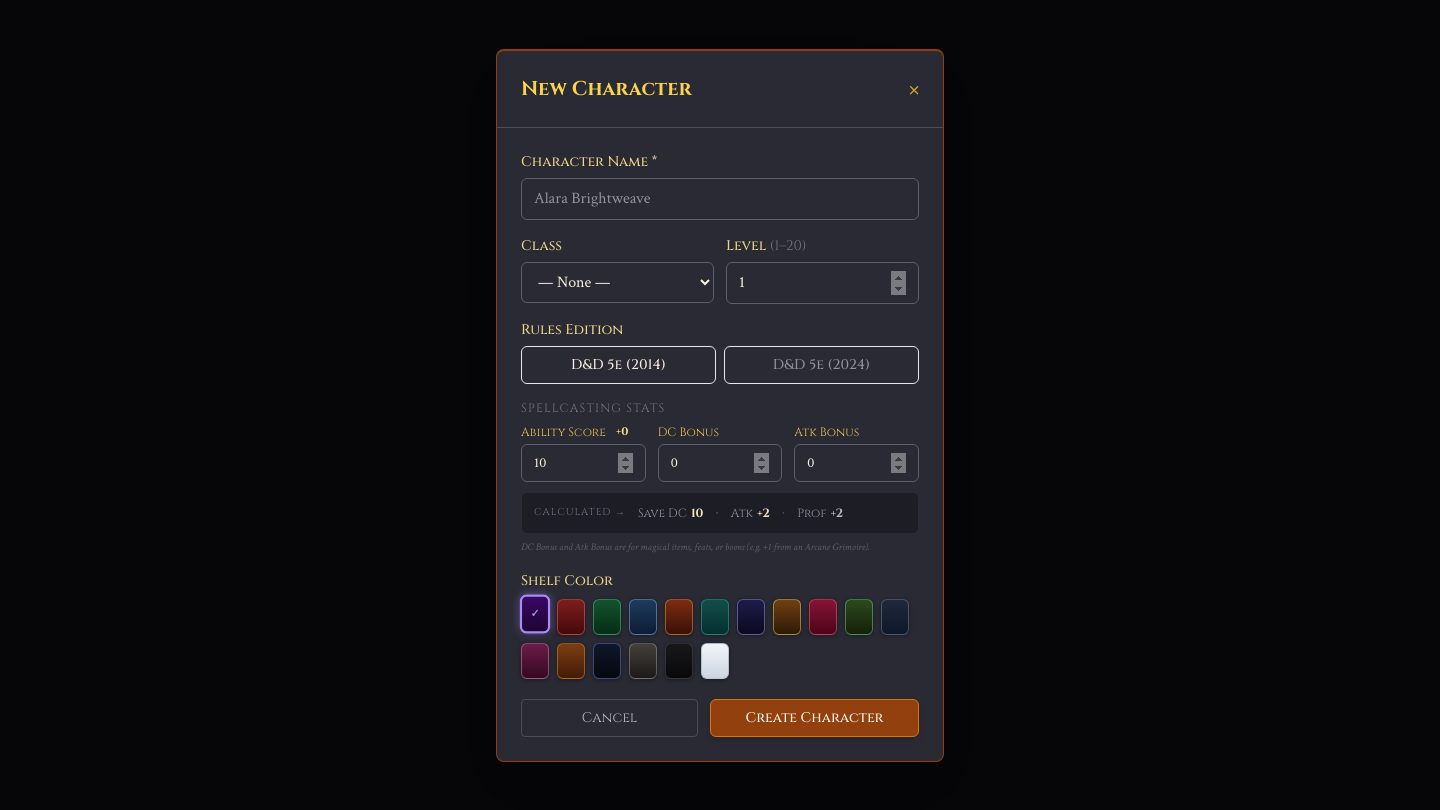
Test case: CreateCharacterModal — validation › shows error when Level is out of range
The image size is (1440, 810).
In the field with placeholder "Alara Brightweave": (720, 198) [521,178,919,220], type "Hero"
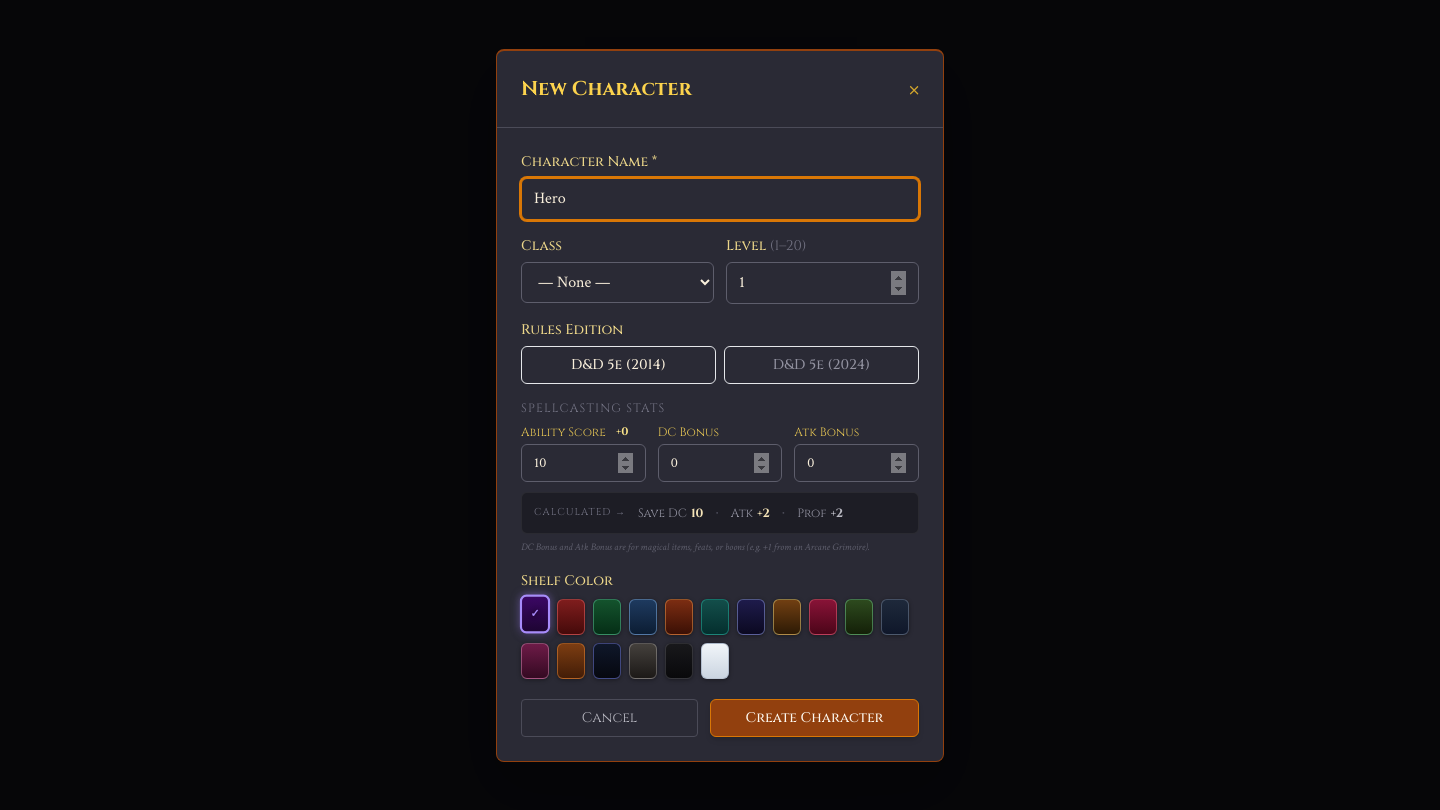
Replace the text in the number field labelled "Level (1–20)" with "99": (822, 282) [726,262,919,304]
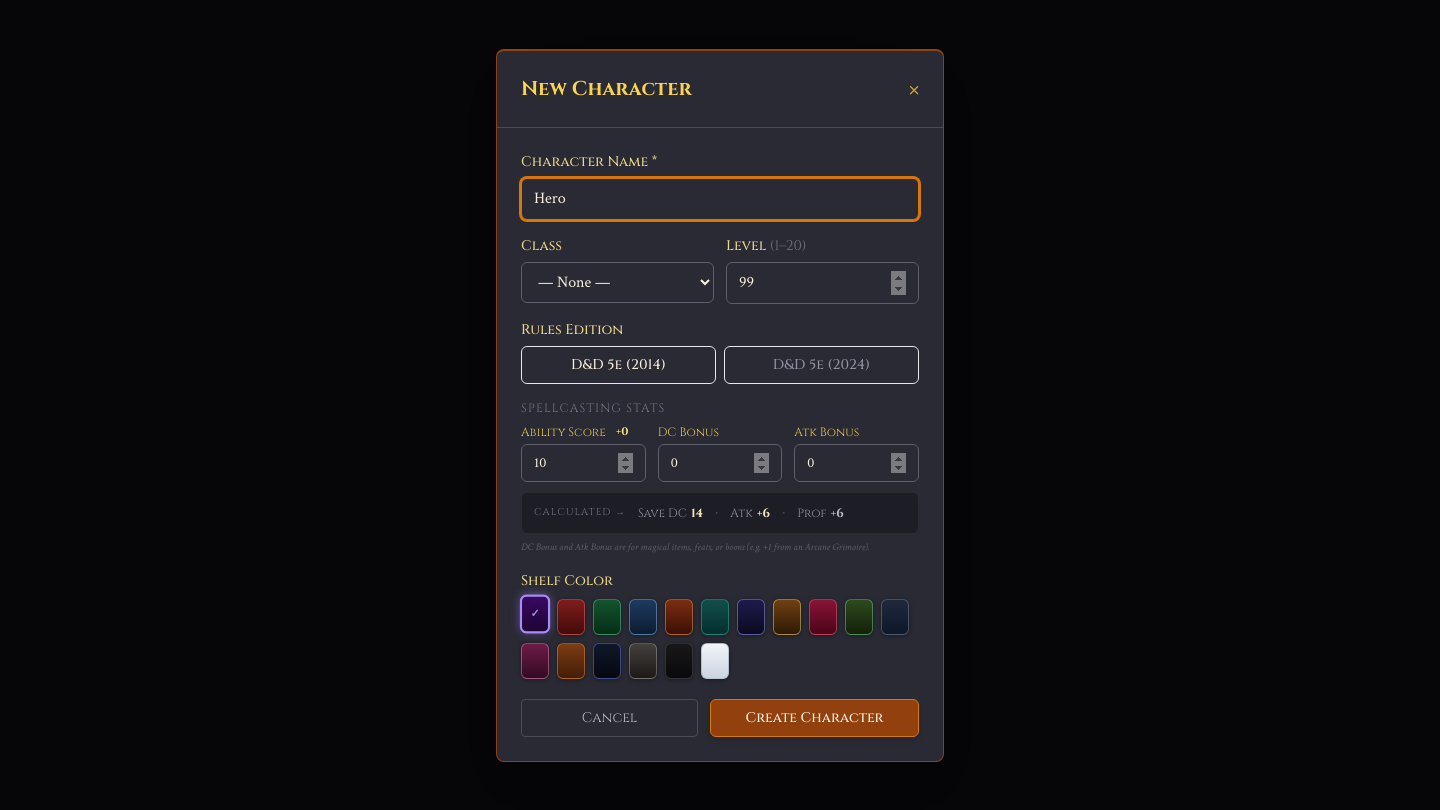
Submit the form, box [521,152,919,736]
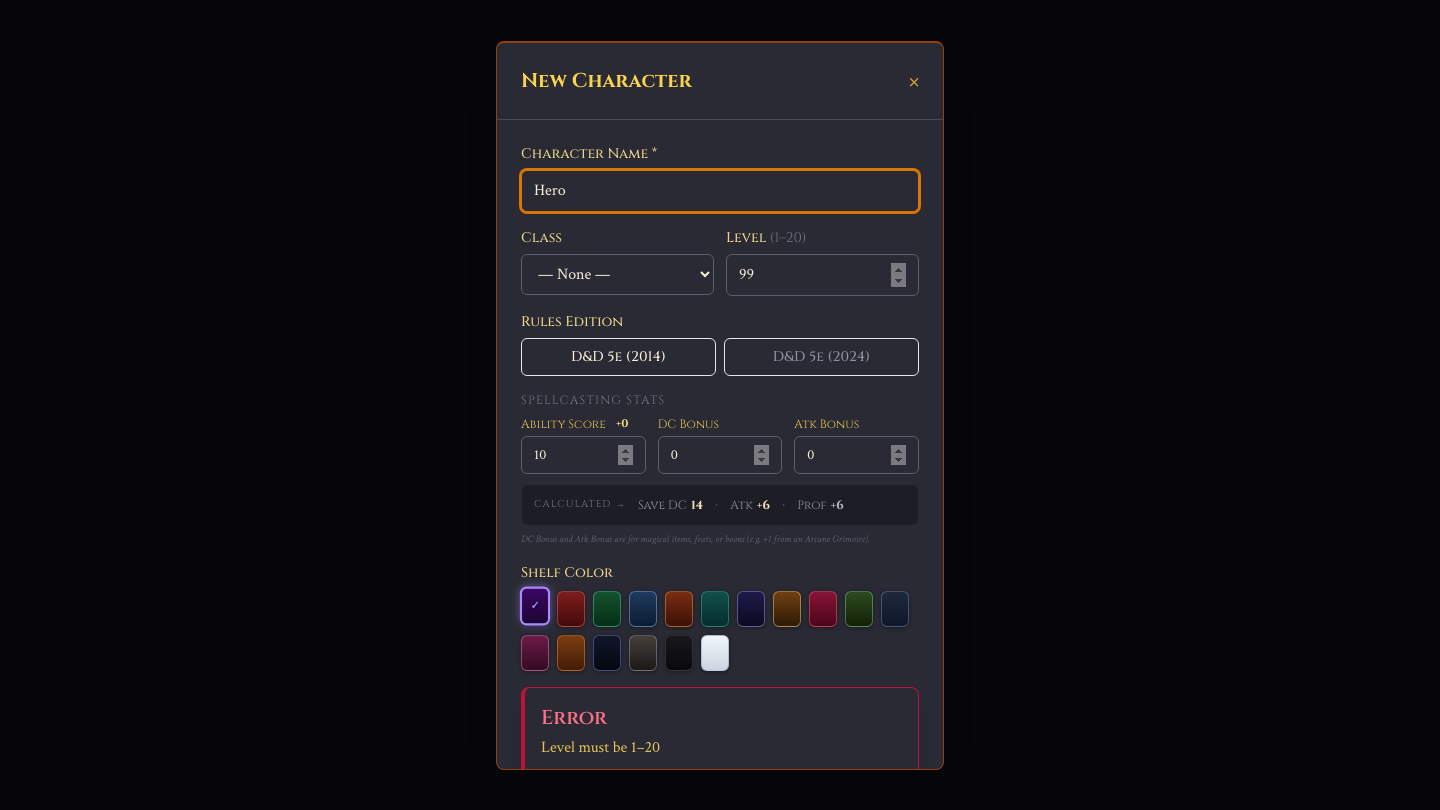
Expected: the text "Level must be 1–20" is shown, [541,736,660,758]
